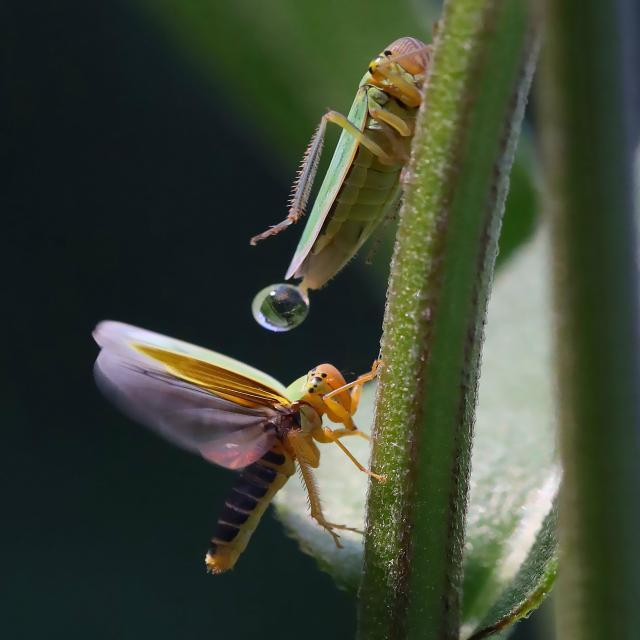Yechan: (266, 28, 456, 293)
